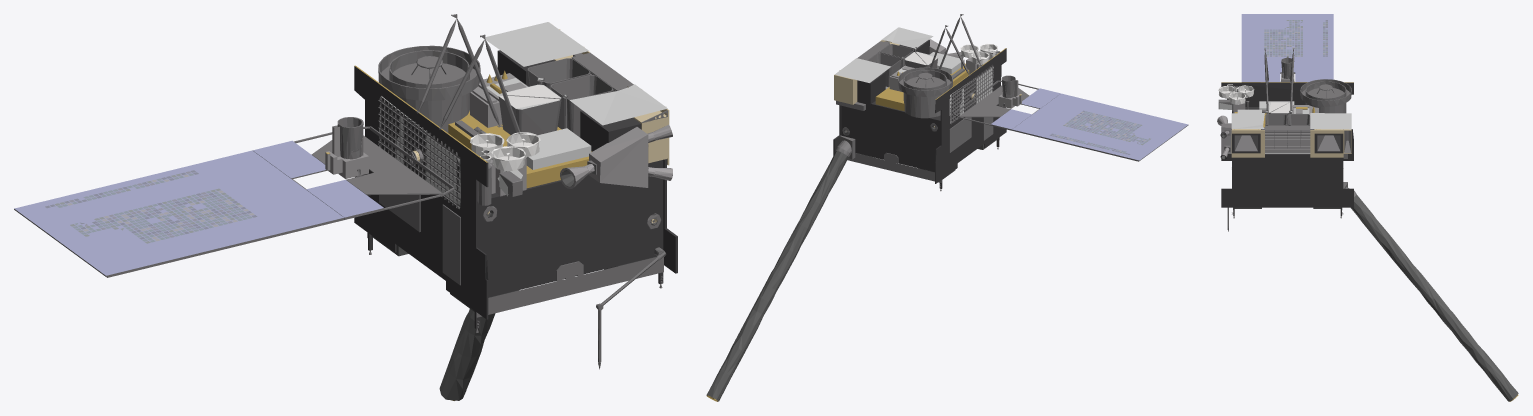
The model's file is goes-nop.glb.
The picture shows the model from 3 angles, left to right: view 1: azimuth 30°, elevation 25°; view 2: azimuth 150°, elevation 25°; view 3: azimuth 270°, elevation 25°; orthographic projection. The views are drawn at different scales.
Parts seen in each view (by area): view 1: Layer_0; view 2: Layer_0; view 3: Layer_0.
Boxes of the visible parts, x1,y1,x2,y2 form: Layer_0: (14, 14, 677, 400); Layer_0: (706, 14, 1188, 401); Layer_0: (1217, 14, 1518, 401).
Bounding box in the file's own units: 1 × 0.907 × 0.8282.
